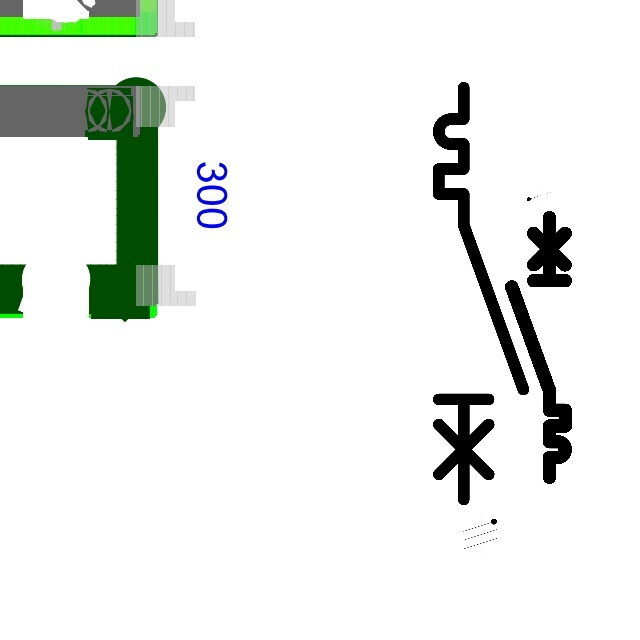interruptor_termomagnetico: (428, 77, 534, 510), (505, 210, 572, 483)
